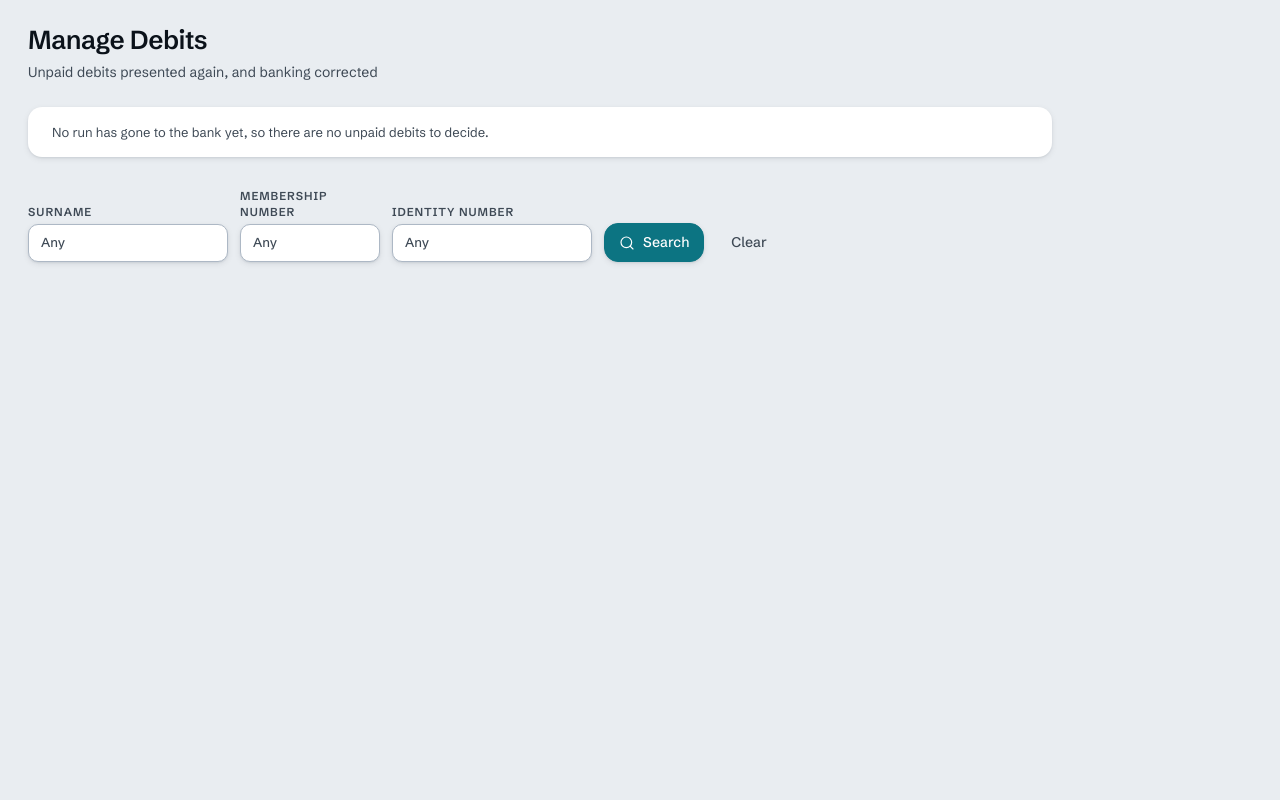
AcbDebits, the debit day (Q42) › R4-2: the debit day is a choice of the window -- the 20th to the 31st, and nothing else
This screenshot has width=1280, height=800.
In the field labelled "Surname": (128, 243) x1=28 y1=224 x2=228 y2=262, type "Testperson"
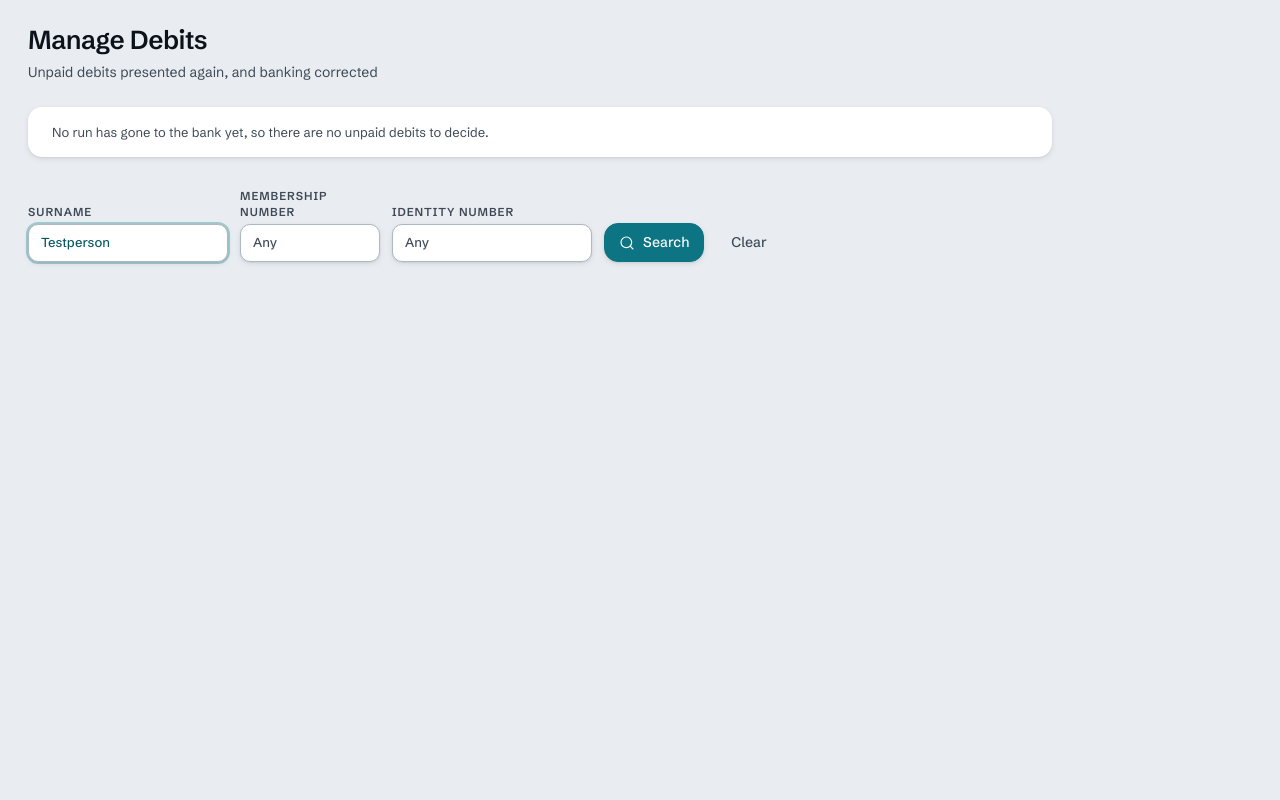
Click the button "Search": (654, 243) x1=604 y1=223 x2=704 y2=262
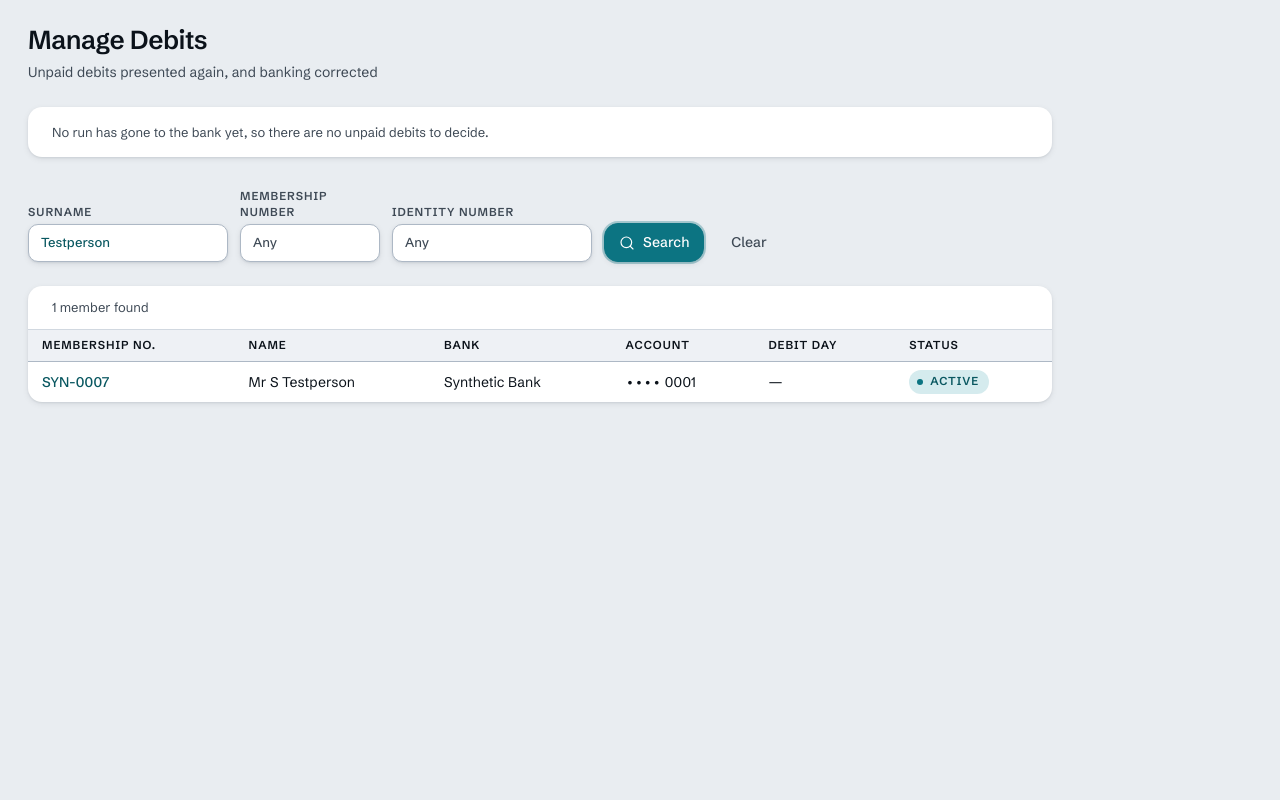
Click the button with aria-label "load banking details": (76, 382) x1=42 y1=372 x2=109 y2=392
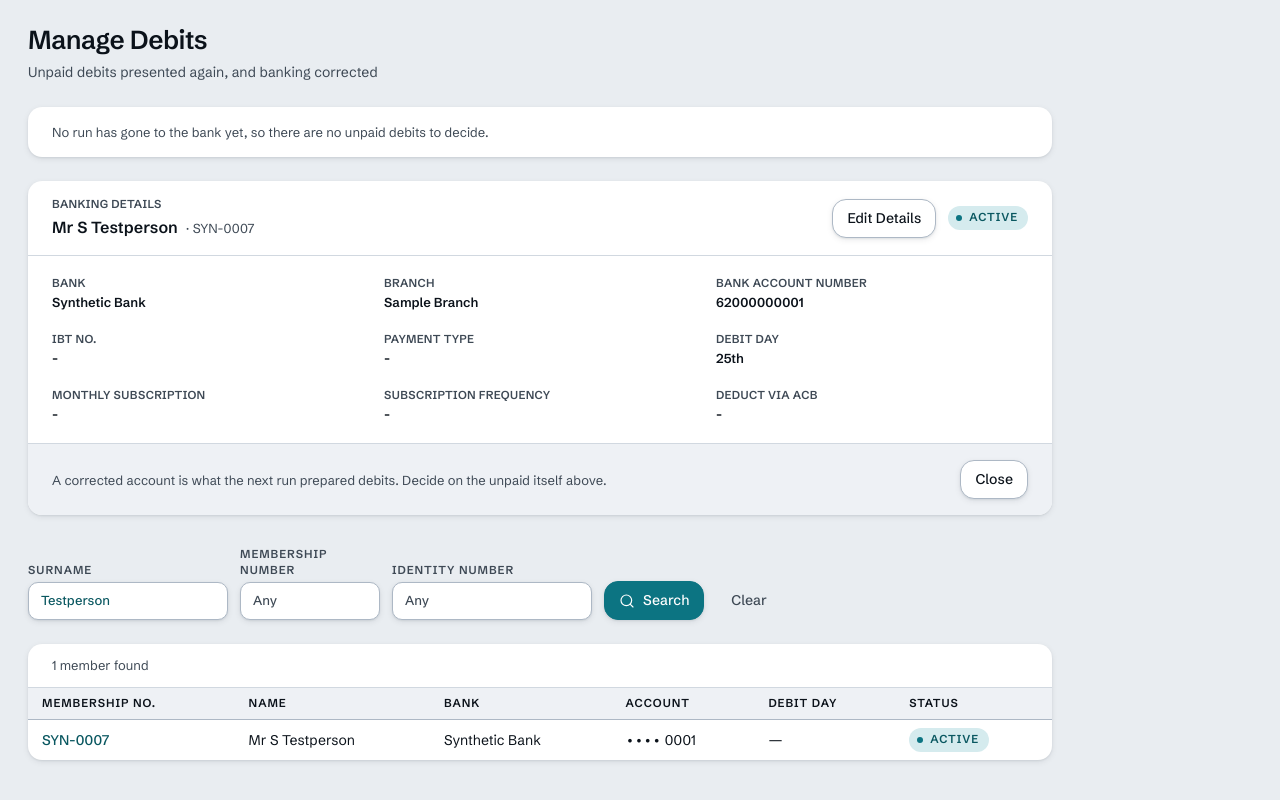
Click the button "Edit Details": (884, 218) x1=832 y1=199 x2=936 y2=238
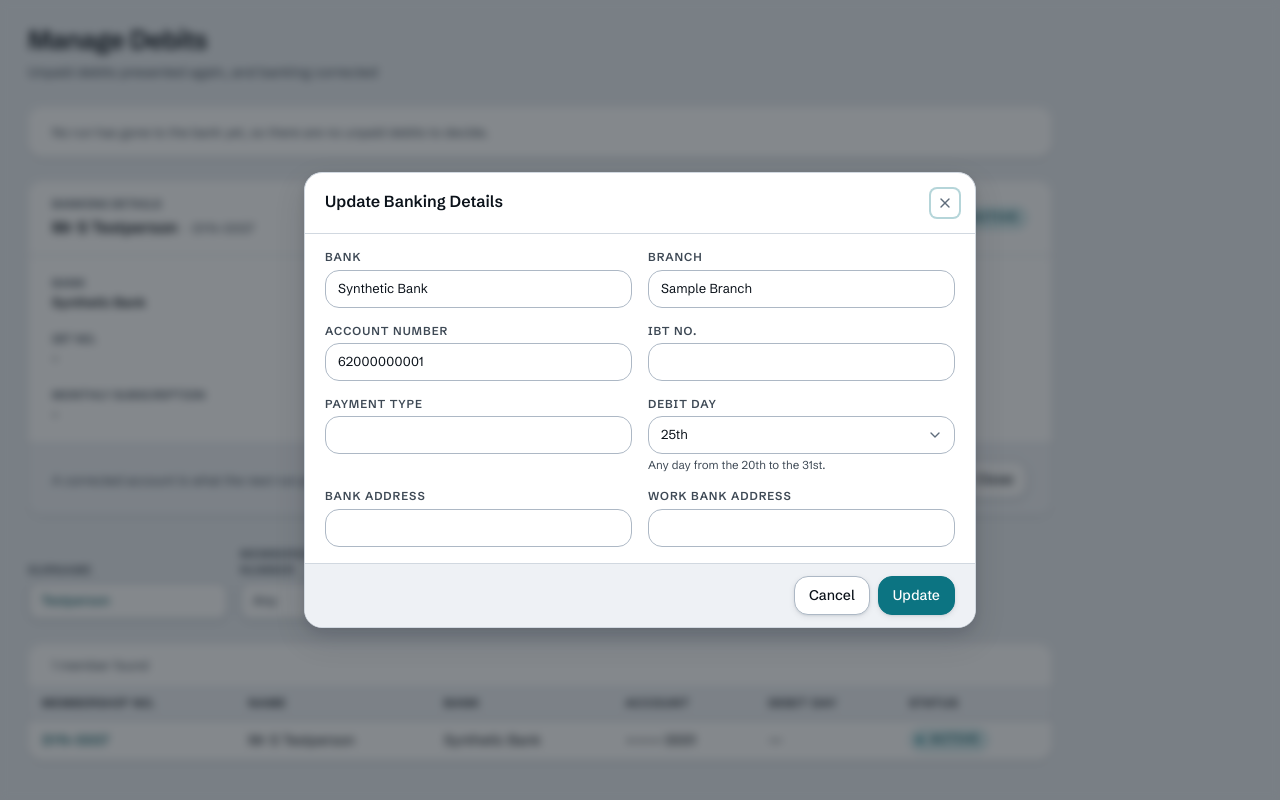
Check: the dropdown labelled "Debit Day" shows "25th", box x1=648 y1=416 x2=955 y2=454
